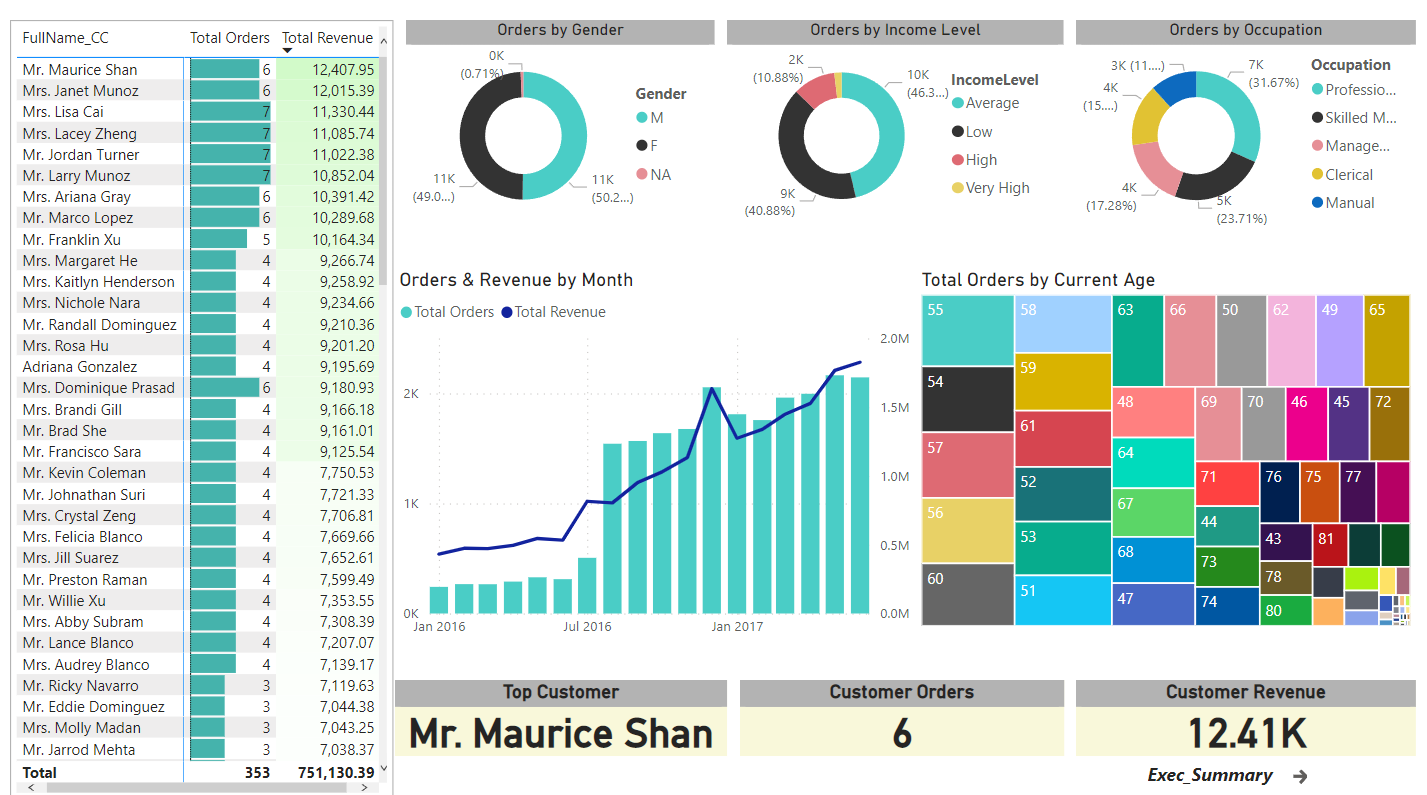

Layout of this report page (visuals, bound fields, positions):
{"tool":"powerbi","page":{"name":"Customer_Detail","canvas":[1280,720],"ordinal":4},"visuals":[{"type":"pivotTable","fields":{"Values":["AW_Sales.Total Orders","AW_Sales.Total Revenue"],"Rows":["AW_Customer_Lookup.FullName_CC"]},"box":[9.8,25,343.5,695],"z":0},{"type":"donutChart","title":"Orders by Gender","fields":{"Y":["AW_Sales.Total Orders"],"Category":["AW_Customer_Lookup.Gender"]},"box":[364,25,276.4,189.6],"z":1000},{"type":"donutChart","title":"Orders by Income Level","fields":{"Y":["AW_Sales.Total Orders"],"Category":["AW_Customer_Lookup.IncomeLevel"]},"box":[651.1,25,301.4,189.6],"z":2000},{"type":"donutChart","title":"Orders by Occupation","fields":{"Y":["AW_Sales.Total Orders"],"Category":["AW_Customer_Lookup.Occupation"]},"box":[963.3,25,304.1,189.6],"z":3000},{"type":"lineClusteredColumnComboChart","title":"Orders & Revenue by Month","fields":{"Y":["AW_Sales.Total Orders"],"Y2":["AW_Sales.Total Revenue"],"Category":["AW_Calendar_Lookup.Start of Month"]},"box":[353.3,246.9,467,338.6],"z":4000},{"type":"treemap","fields":{"Values":["AW_Sales.Total Orders"],"Group":["AW_Customer_Lookup.Current Age"]},"box":[820.2,246.9,447.4,325.2],"z":5000},{"type":"card","title":"Top Customer","fields":{"Values":["AW_Customer_Lookup.FullName_CC"]},"box":[354.2,615.4,296.9,68],"z":6000},{"type":"card","title":"Customer Orders","fields":{"Values":["AW_Sales.Total Orders"]},"box":[662.8,615.4,289.8,68],"z":7000},{"type":"card","title":"Customer Revenue","fields":{"Values":["AW_Sales.Total Revenue"]},"box":[963.3,615.4,304.1,68],"z":8000},{"type":"textbox","box":[1021.9,683.3,130.8,36.7],"z":9000},{"type":"actionButton","box":[1152.9,691.4,41.1,21.5],"z":10000}]}

Visuals, with their boxes in screenshot pixels (x1, y1, x2, y2), scaled from the page's 1280x720 canvas onto the 1427x795 screenshot:
pivotTable - AW_Sales.Total Orders x AW_Sales.Total Revenue: Rect(11, 28, 394, 794)
"Orders by Gender" donutChart: Rect(406, 28, 714, 237)
"Orders by Income Level" donutChart: Rect(726, 28, 1062, 237)
"Orders by Occupation" donutChart: Rect(1074, 28, 1413, 237)
"Orders & Revenue by Month" lineClusteredColumnComboChart: Rect(394, 273, 915, 646)
treemap - AW_Sales.Total Orders x AW_Customer_Lookup.Current Age: Rect(914, 273, 1413, 632)
"Top Customer" card: Rect(395, 680, 726, 755)
"Customer Orders" card: Rect(739, 680, 1062, 755)
"Customer Revenue" card: Rect(1074, 680, 1413, 755)
textbox: Rect(1139, 754, 1285, 794)
actionButton: Rect(1285, 763, 1331, 787)
